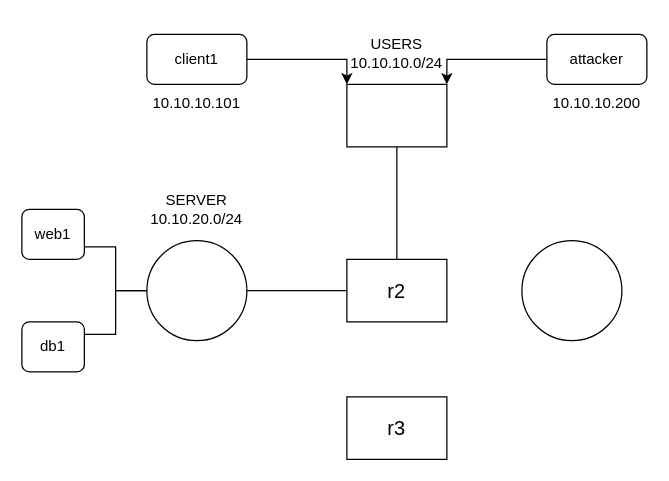
The diagram is 669 pixels wide and 481 high, and some of its shapes have lost their labels. The centre of each missing label's shape, as x and y in pixels:
Management bridge: (x=571, y=290)
r1: (x=396, y=115)
Server bridge: (x=196, y=290)
